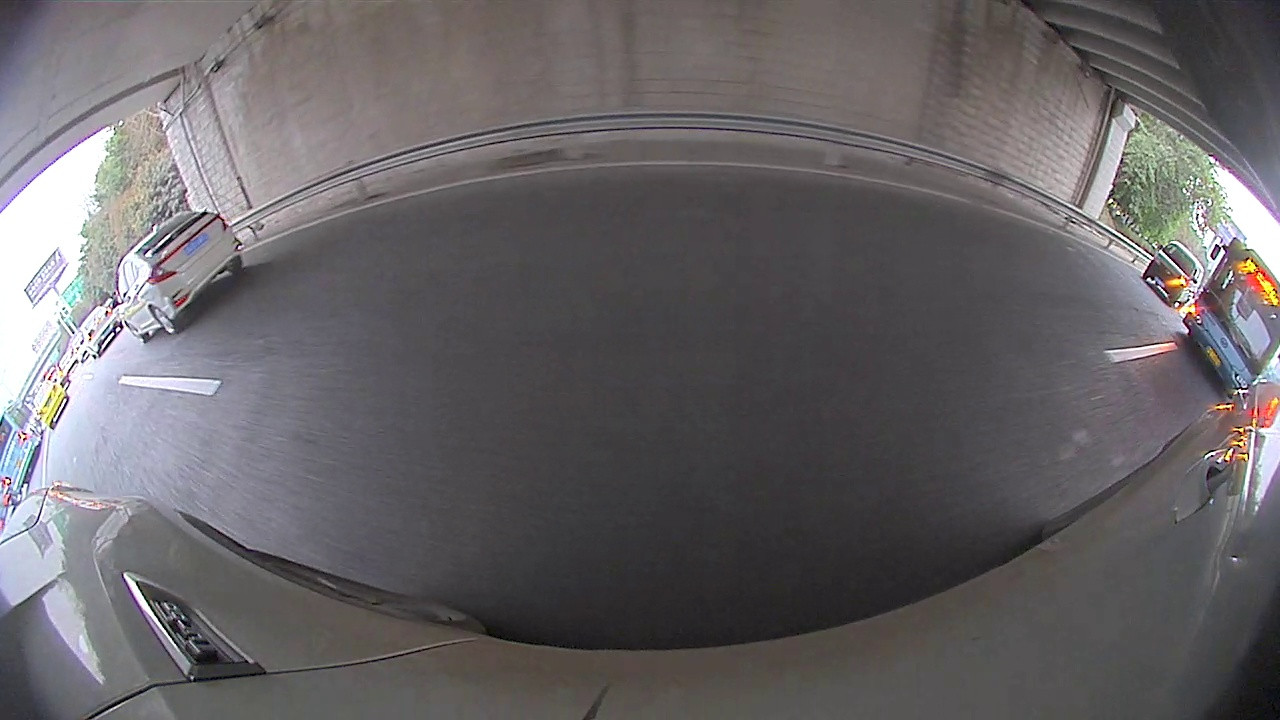bus: (1117, 226, 1221, 367)
car: (191, 35, 709, 303), (683, 47, 935, 202), (131, 162, 193, 249), (1186, 371, 1248, 453), (45, 260, 109, 331)
front: (506, 177, 629, 288), (885, 161, 922, 205)
rear: (210, 234, 273, 300), (733, 119, 785, 172)
